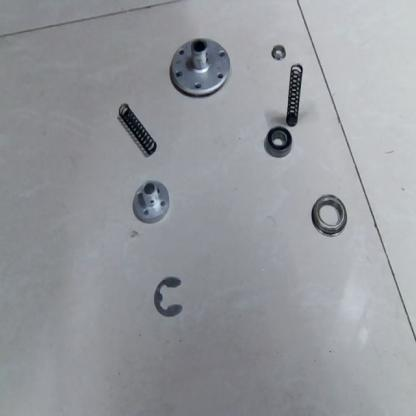FOD: (168, 32, 230, 100), (116, 101, 160, 157), (127, 178, 175, 227), (309, 190, 349, 240), (283, 58, 305, 128), (154, 277, 184, 317), (263, 125, 293, 160), (268, 41, 286, 65)
